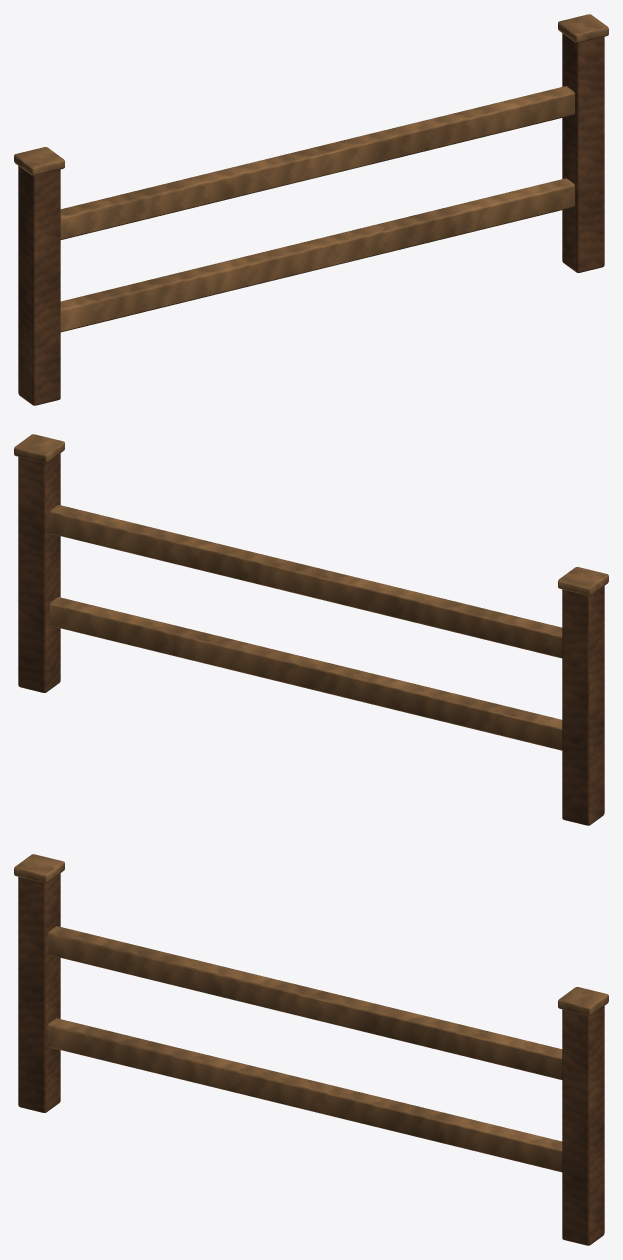
The model's file is fence-section.glb.
3 renders of one model, top to bottom at view 1: azimuth 30°, elevation 25°; view 2: azimuth 150°, elevation 25°; view 3: azimuth 330°, elevation 25°, orthographic.
Parts seen in each view (by area): view 1: PostCap, FencePost; view 2: PostCap, FencePost; view 3: PostCap, FencePost.
Part boxes in pixels (<box>): PostCap: <box>14,14,608,332</box>; FencePost: <box>18,33,604,405</box>; PostCap: <box>14,434,608,750</box>; FencePost: <box>18,453,604,825</box>; PostCap: <box>14,854,608,1172</box>; FencePost: <box>18,873,604,1245</box>.
Bounding box in the file's own units: 3.08 × 1.23 × 0.18.
Materials: 3 (2 with a texture image).
